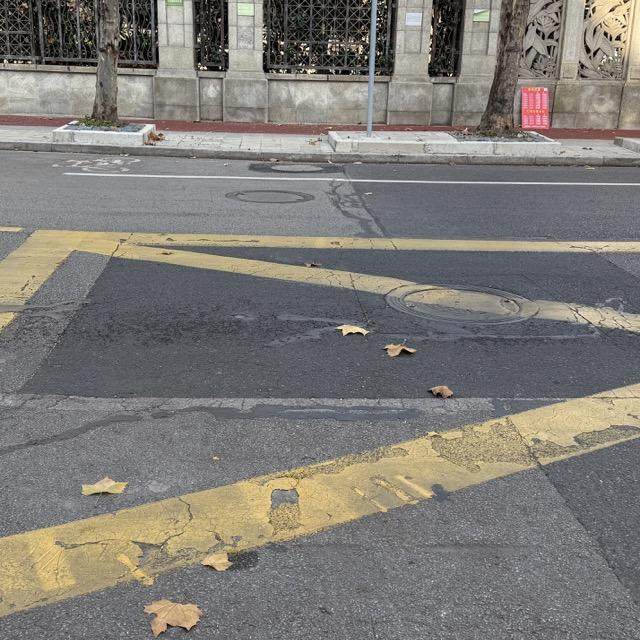curb: (0, 142, 639, 167), (328, 131, 562, 156), (53, 123, 156, 146), (616, 139, 639, 153)
